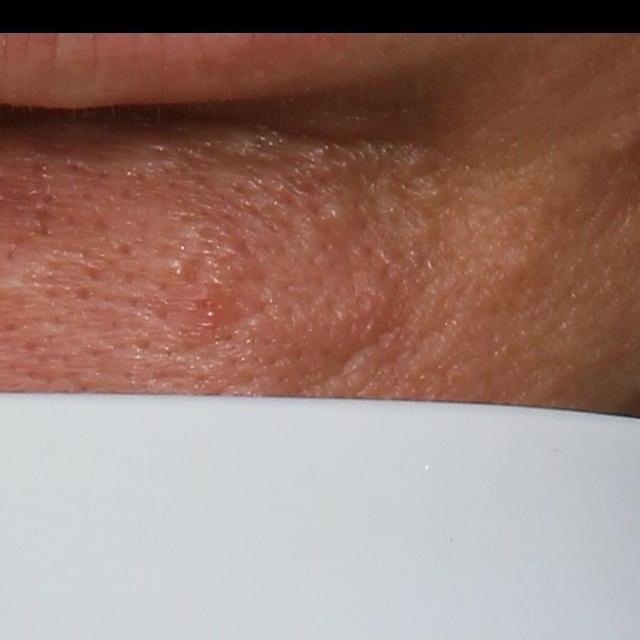comedo: (162, 252, 200, 290)
hypertrophic_scar: (295, 271, 402, 354), (493, 246, 538, 291), (386, 147, 436, 187)
